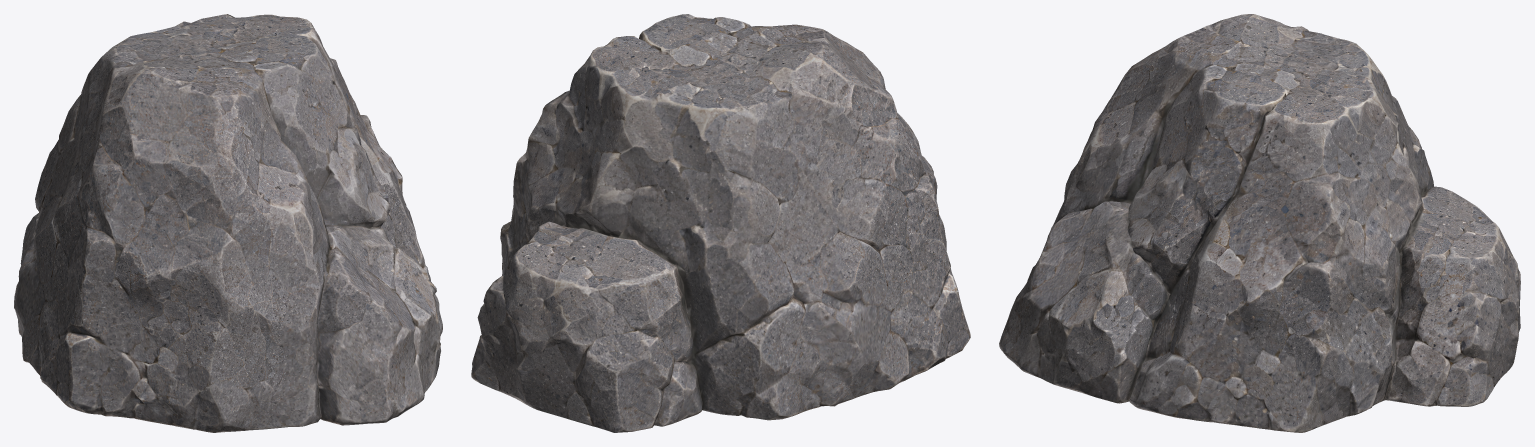
The model's file is texture.glb.
The picture shows the model from 3 angles, left to right: view 1: azimuth 30°, elevation 25°; view 2: azimuth 150°, elevation 25°; view 3: azimuth 270°, elevation 25°; orthographic projection. The views are drawn at different scales.
Visible parts, largest first — view 1: tripo_node_5c73d5ff-0ffb-40eb-bd00-c3beaba5a3c1; view 2: tripo_node_5c73d5ff-0ffb-40eb-bd00-c3beaba5a3c1; view 3: tripo_node_5c73d5ff-0ffb-40eb-bd00-c3beaba5a3c1.
Boxes of the visible parts, <box> form: tripo_node_5c73d5ff-0ffb-40eb-bd00-c3beaba5a3c1: <box>14,14,442,432</box>; tripo_node_5c73d5ff-0ffb-40eb-bd00-c3beaba5a3c1: <box>471,14,970,432</box>; tripo_node_5c73d5ff-0ffb-40eb-bd00-c3beaba5a3c1: <box>999,14,1520,432</box>.
Size of the model in its own units: 0.8718 by 0.5995 by 1.
1 material, 1 textured.
